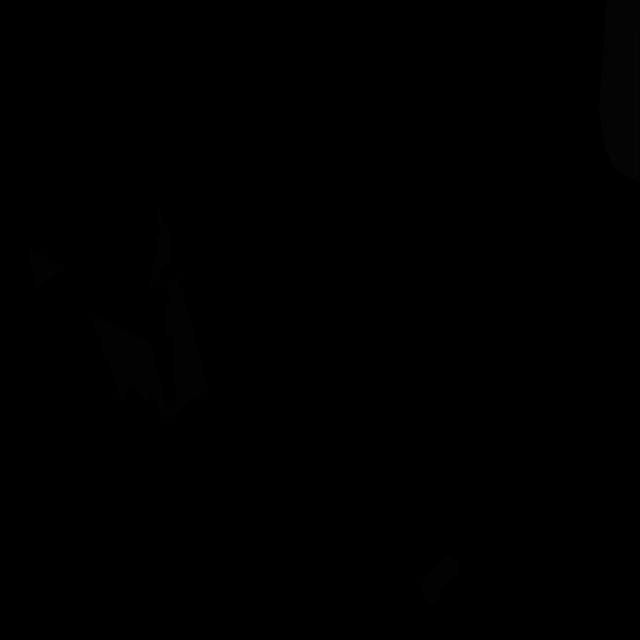cardboard: (92, 203, 209, 420), (420, 552, 459, 608), (27, 245, 68, 290)
soft_plastic: (599, 0, 640, 182)
